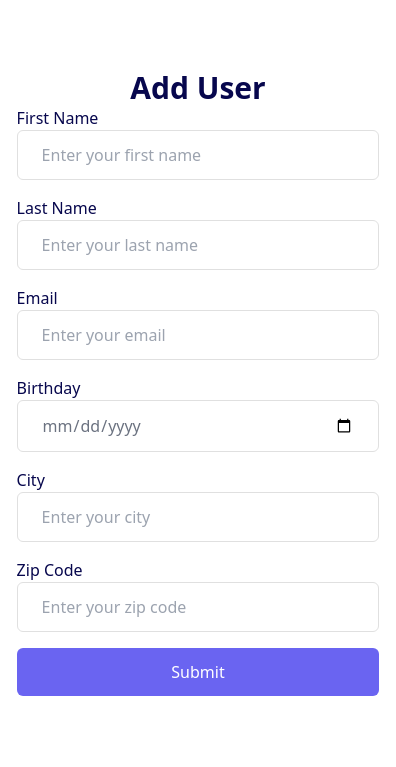
Scenario: Page › should show error for invalid zip code
In the field with test id "zip_code": (198, 607) x1=17 y1=582 x2=379 y2=632, type "abcde"
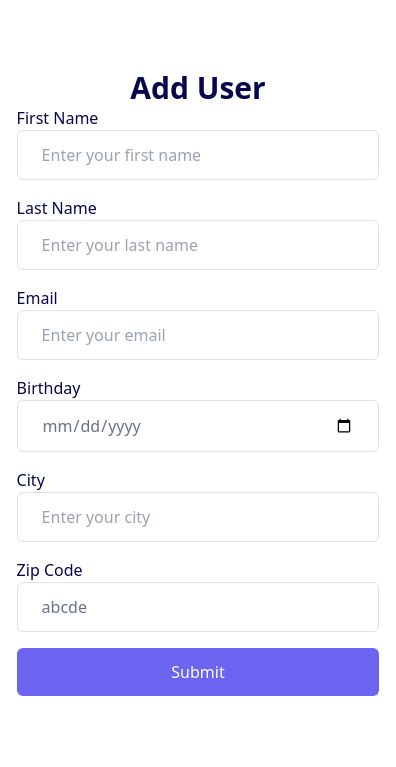
Click the button with test id "submit_button": (198, 672) x1=17 y1=648 x2=379 y2=696
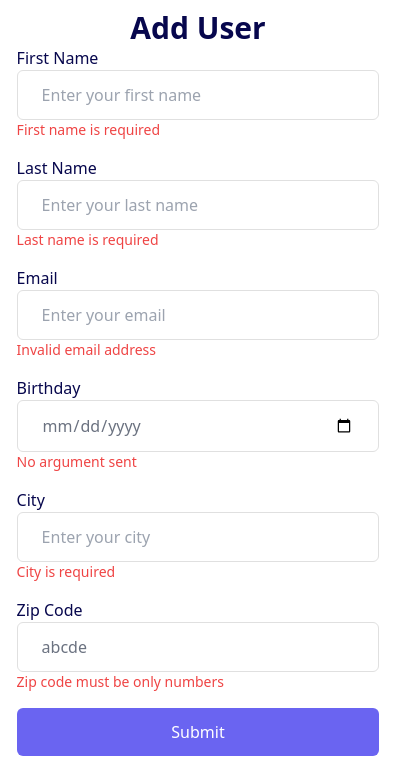
Check: the text "Zip code must be only numbers" is shown, box x1=17 y1=672 x2=224 y2=691
